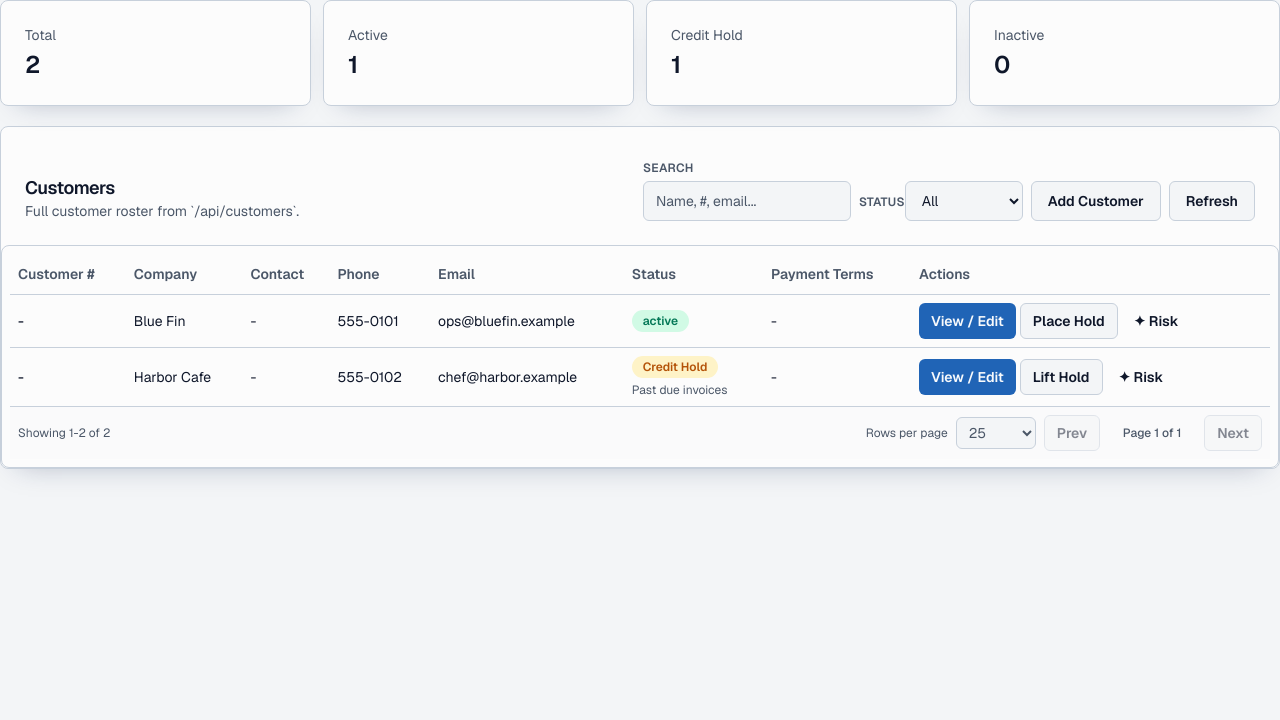
CustomersPage › places a credit hold and reloads the customer list
The width and height of the screenshot is (1280, 720).
Click the button "Place Hold". click: (1069, 320)
box: top-left (1020, 302), bottom-right (1118, 338)
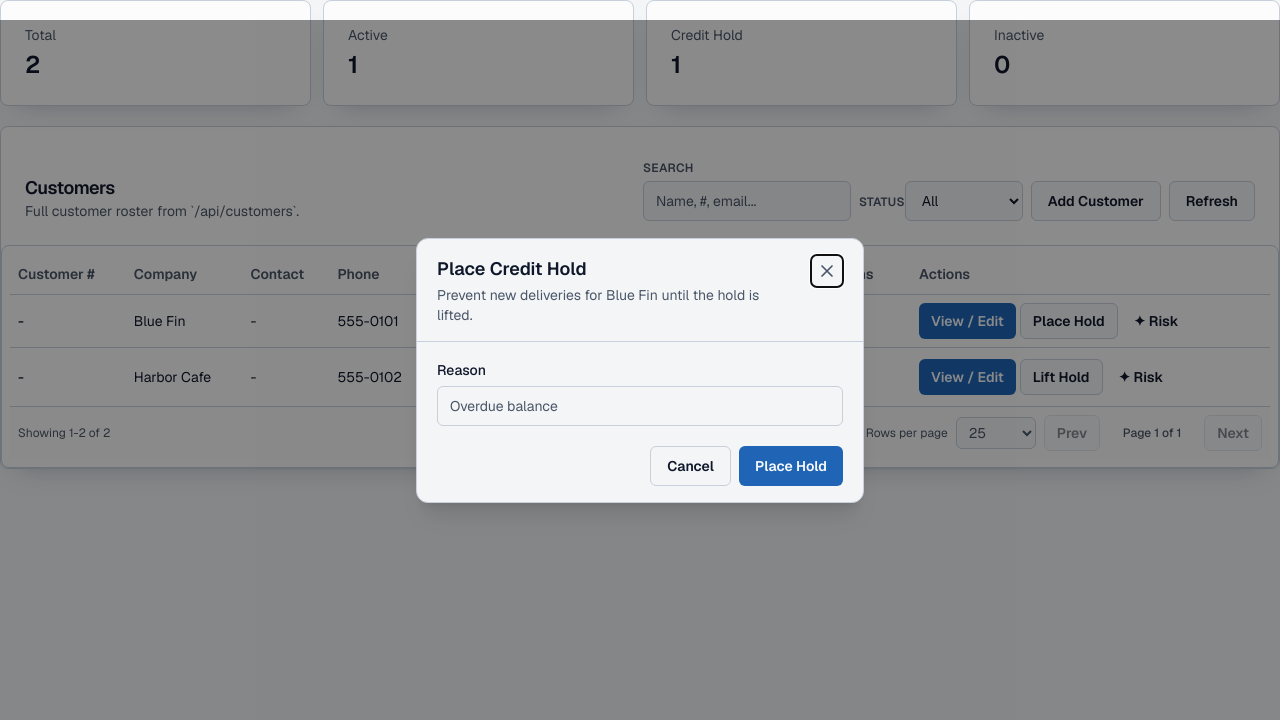
Expected: the heading "Place Credit Hold" is shown, top-left (437, 256), bottom-right (587, 280)
Type "Late payments over 90 days" into the field with placeholder "Overdue balance". click: (640, 406)
box: top-left (437, 386), bottom-right (843, 426)
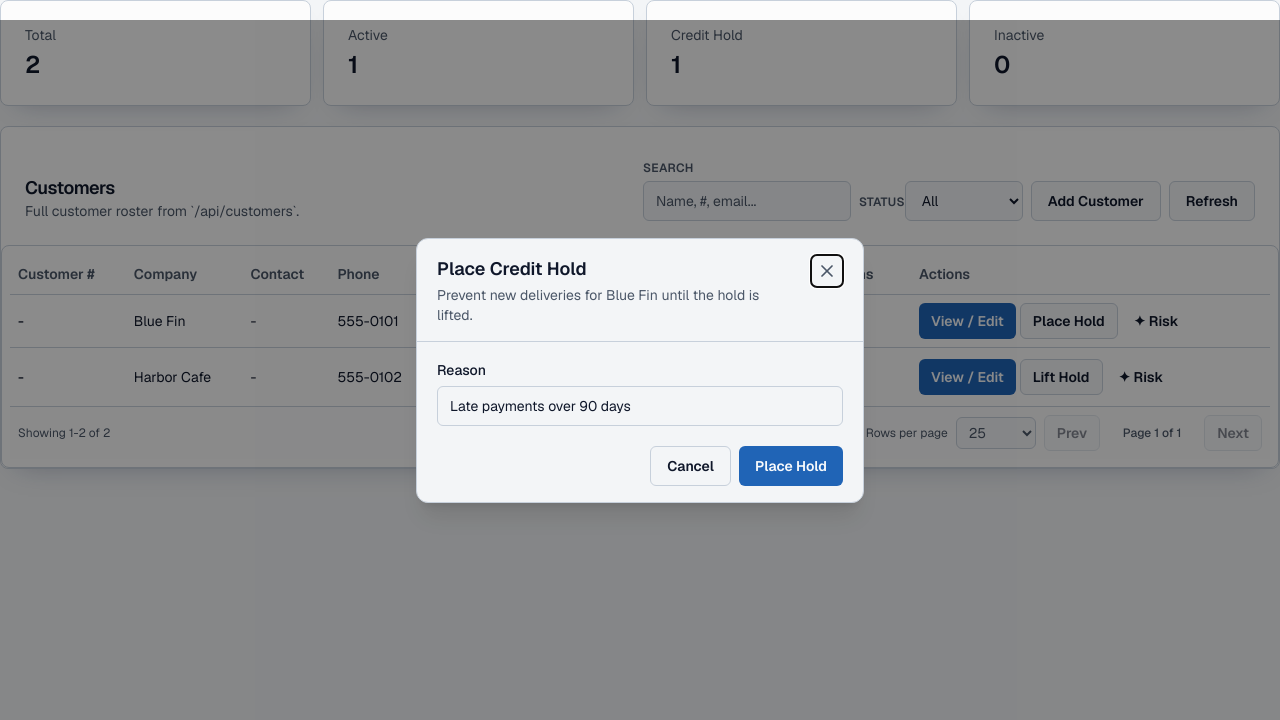
Click the button "Place Hold". click: (791, 466)
box: top-left (739, 446), bottom-right (843, 486)
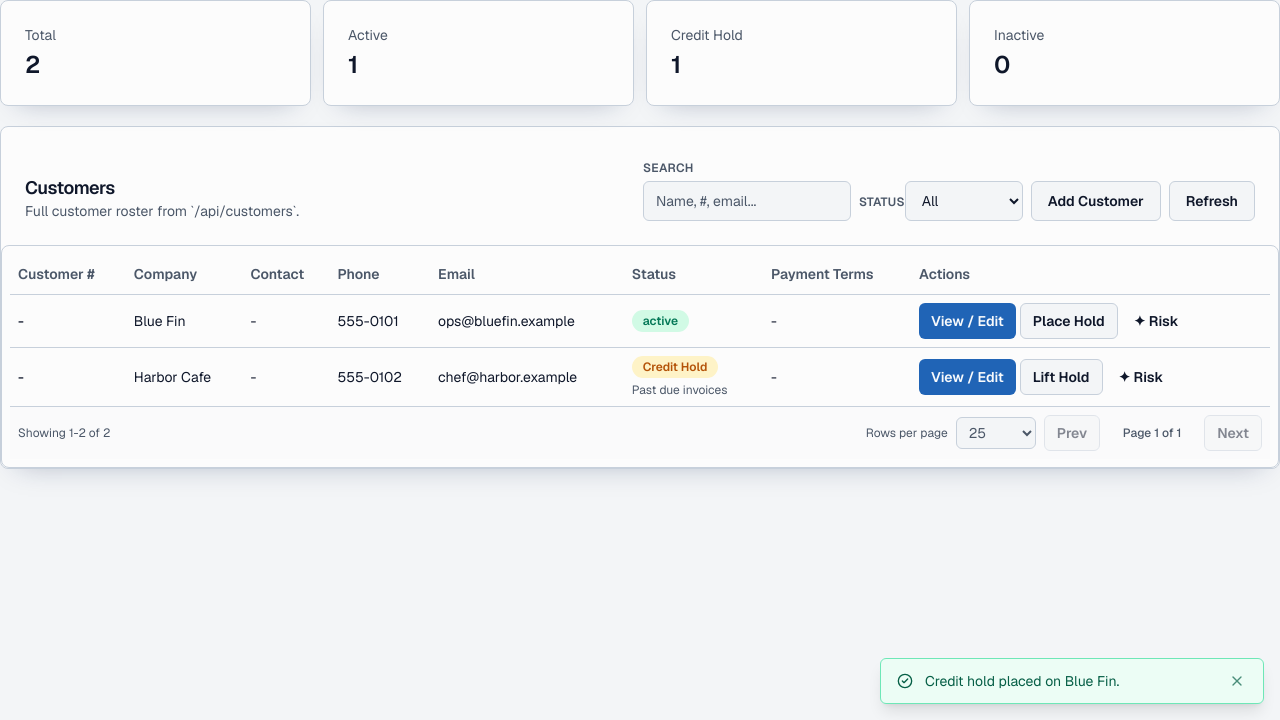
Expected: the text "Credit hold placed on Blue Fin." is shown, top-left (925, 672), bottom-right (1119, 690)
